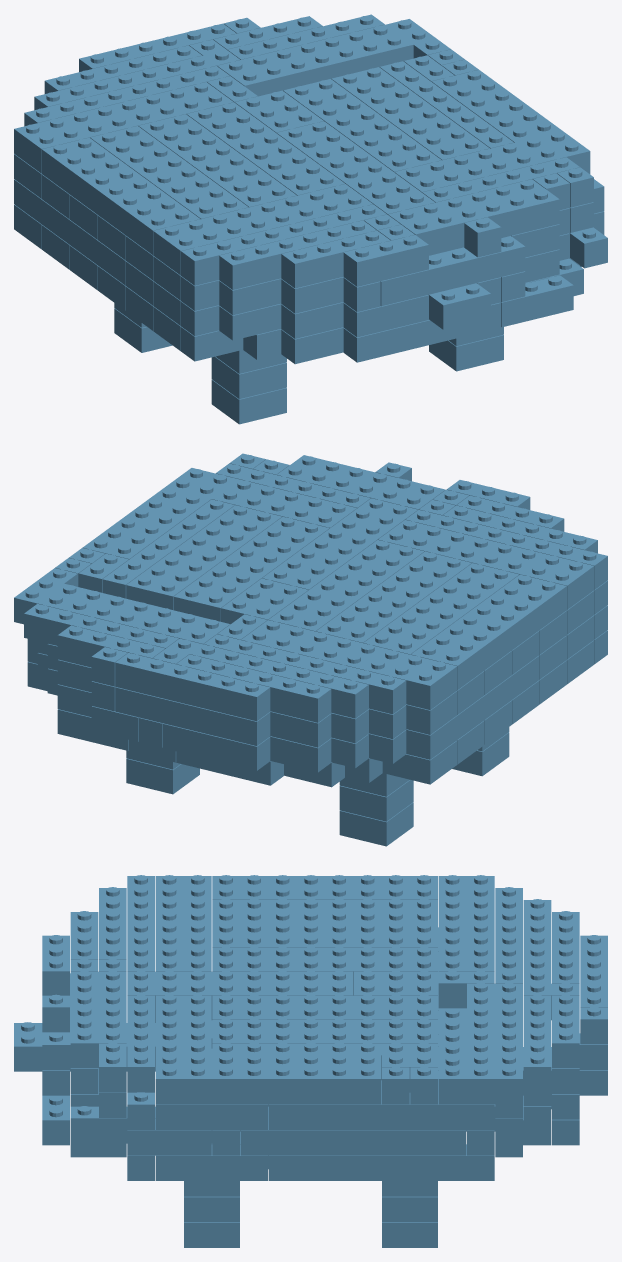
File: 137_car_L2.glb
3 renders of one model, top to bottom at view 1: azimuth 30°, elevation 25°; view 2: azimuth 150°, elevation 25°; view 3: azimuth 270°, elevation 25°, orthographic. The views are drawn at different scales.
Size of the model in its own units: 16.98 by 8.13 by 20.98.
